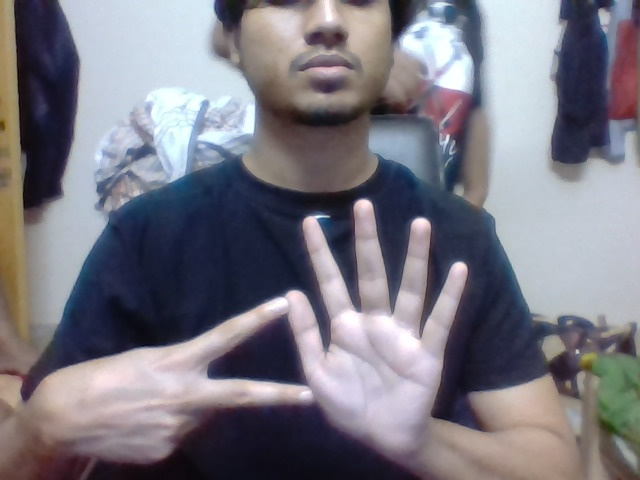N: (183, 291, 287, 412)
